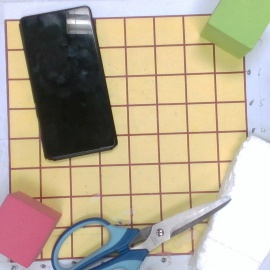phone: (19, 5, 118, 161)
